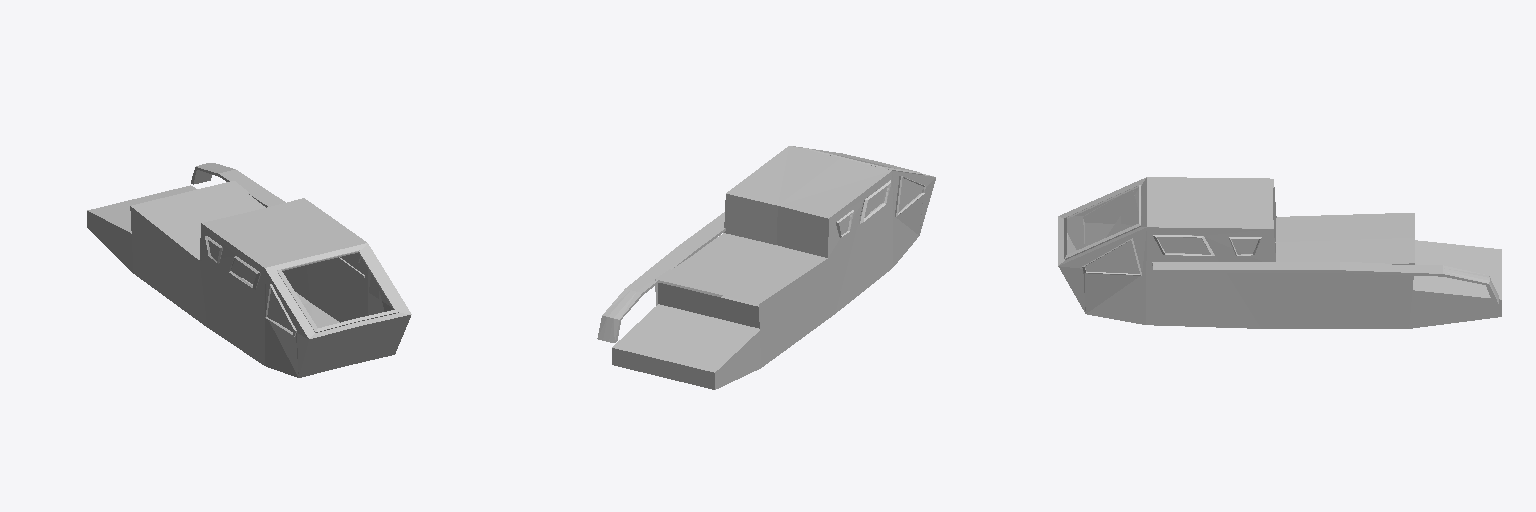
The model's file is riptest.obj.
3 views of the same model, side by side, from view 1: azimuth 30°, elevation 25°; view 2: azimuth 150°, elevation 25°; view 3: azimuth 270°, elevation 25° (orthographic).
Parts seen in each view (by area): view 1: default; view 2: default; view 3: default.
Part boxes in pixels (bbox=[...]): default: bbox=[87, 163, 411, 377]; default: bbox=[597, 146, 935, 389]; default: bbox=[1058, 177, 1501, 328].
Bounding box in the file's own units: 2.05 × 1.63 × 6.42.